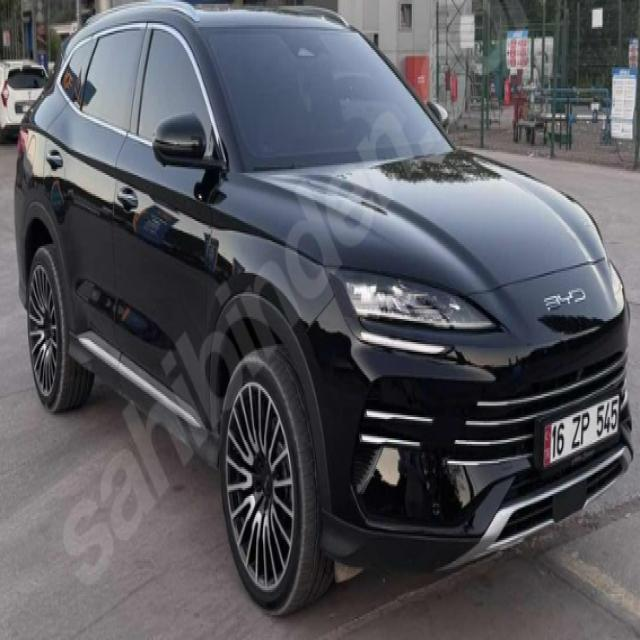byd: (537, 275, 593, 321)
